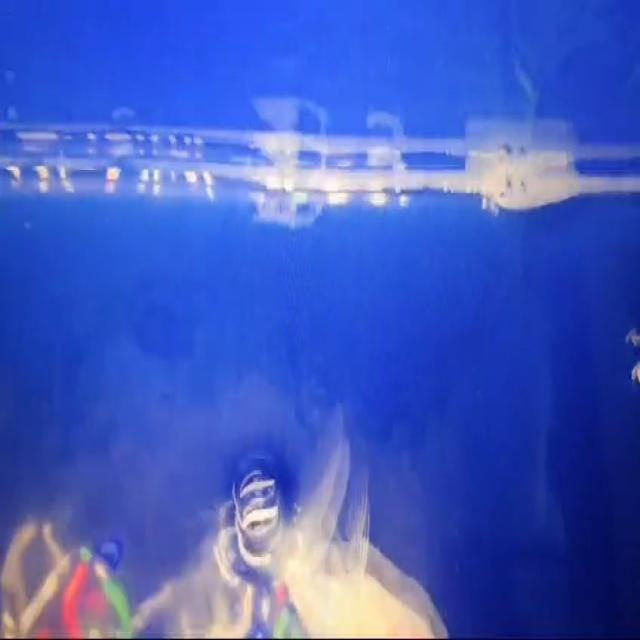fish: (257, 415, 453, 640)
